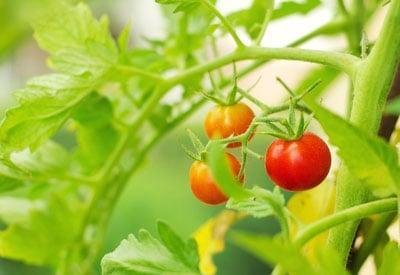healthy-tomato: (188, 130, 255, 207), (265, 122, 334, 194), (204, 104, 259, 142)
